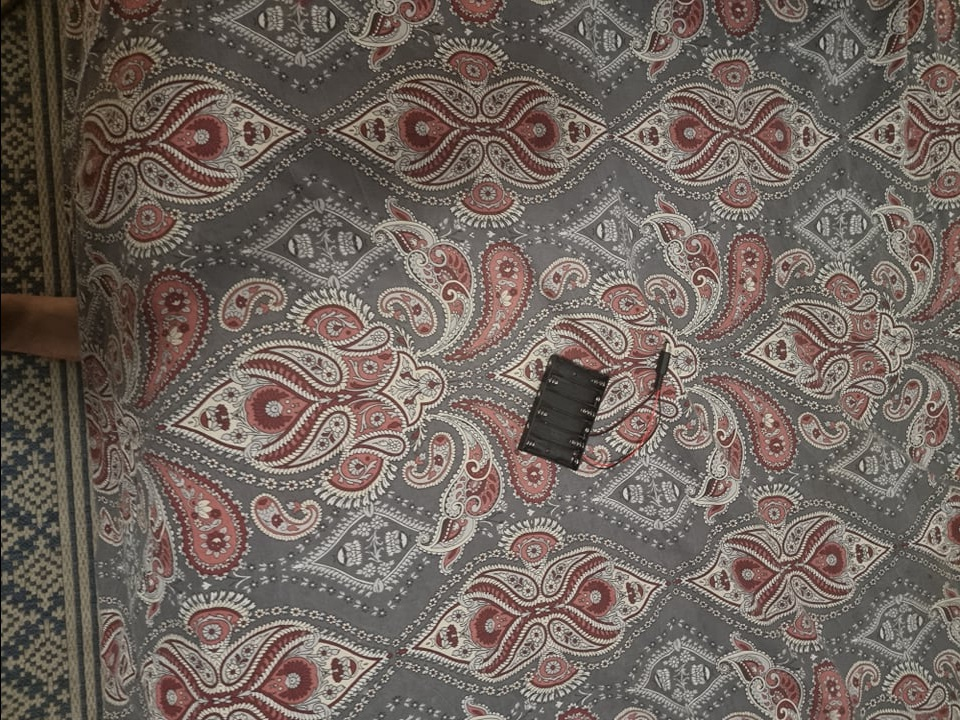BATTERY BOX: (513, 353, 616, 471)
